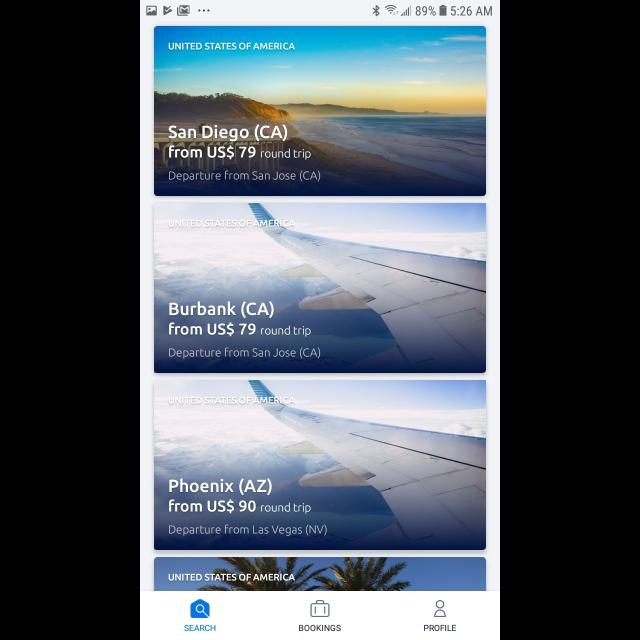icon: (190, 598, 210, 618), (310, 599, 330, 617), (434, 599, 446, 617)
image: (154, 26, 486, 196), (154, 203, 486, 373), (154, 380, 486, 550), (154, 557, 486, 591)
text: (169, 124, 311, 160), (169, 301, 311, 337), (169, 478, 311, 514), (169, 524, 327, 536), (169, 170, 321, 182), (169, 347, 321, 359), (168, 41, 294, 50), (168, 220, 296, 228), (168, 396, 296, 404), (168, 573, 296, 581), (299, 624, 341, 632), (184, 624, 216, 632), (424, 624, 456, 632)
uppertaskbar: (140, 1, 500, 22)
